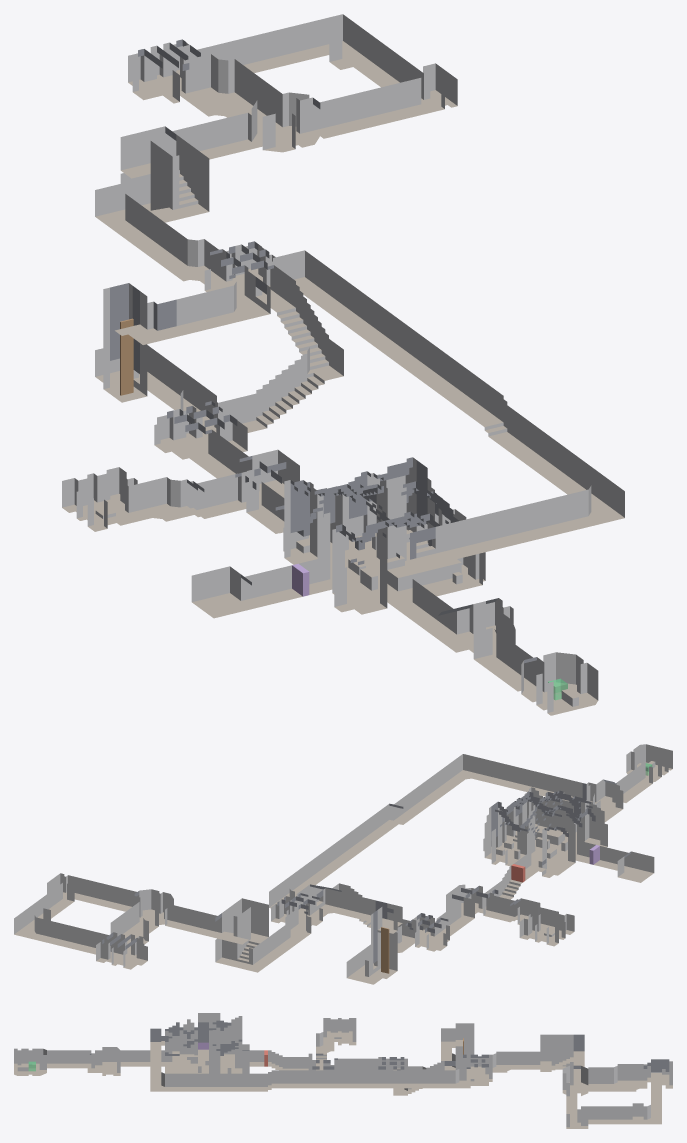
The model's file is underground_2.glb.
3 renders of one model, top to bottom at view 1: azimuth 30°, elevation 25°; view 2: azimuth 150°, elevation 25°; view 3: azimuth 270°, elevation 25°, orthographic. The views are drawn at different scales.
Visible parts, largest first — view 1: level_geometry; view 2: level_geometry, ladder_0; view 3: level_geometry.
Part boxes in pixels (box(x1,y1,x2,y2)): level_geometry: box(62, 14, 624, 715); level_geometry: box(14, 744, 672, 984); ladder_0: box(381, 927, 389, 973); level_geometry: box(14, 1013, 672, 1128).
Size of the model in its own units: 96 by 21 by 179.
